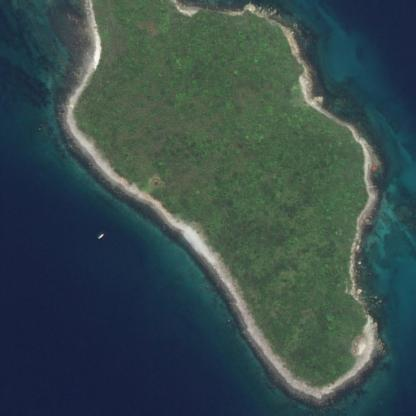ship: (91, 226, 108, 244)
